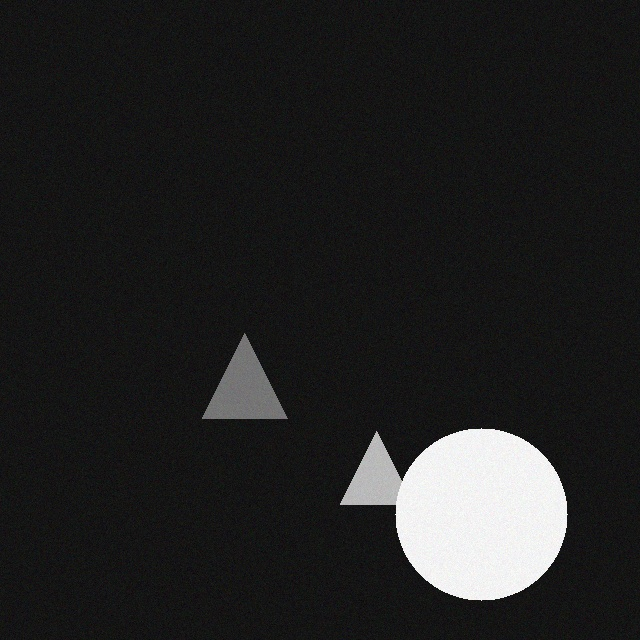circle: (381, 420, 553, 592)
triangle: (188, 325, 273, 410), (326, 423, 399, 496)
